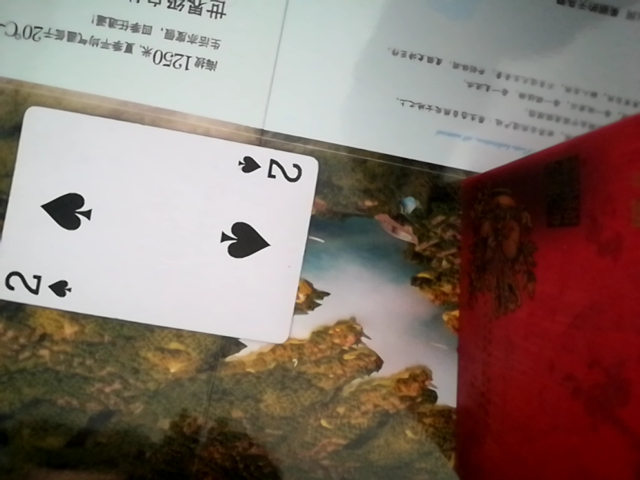ht 2: (0, 107, 330, 351)
